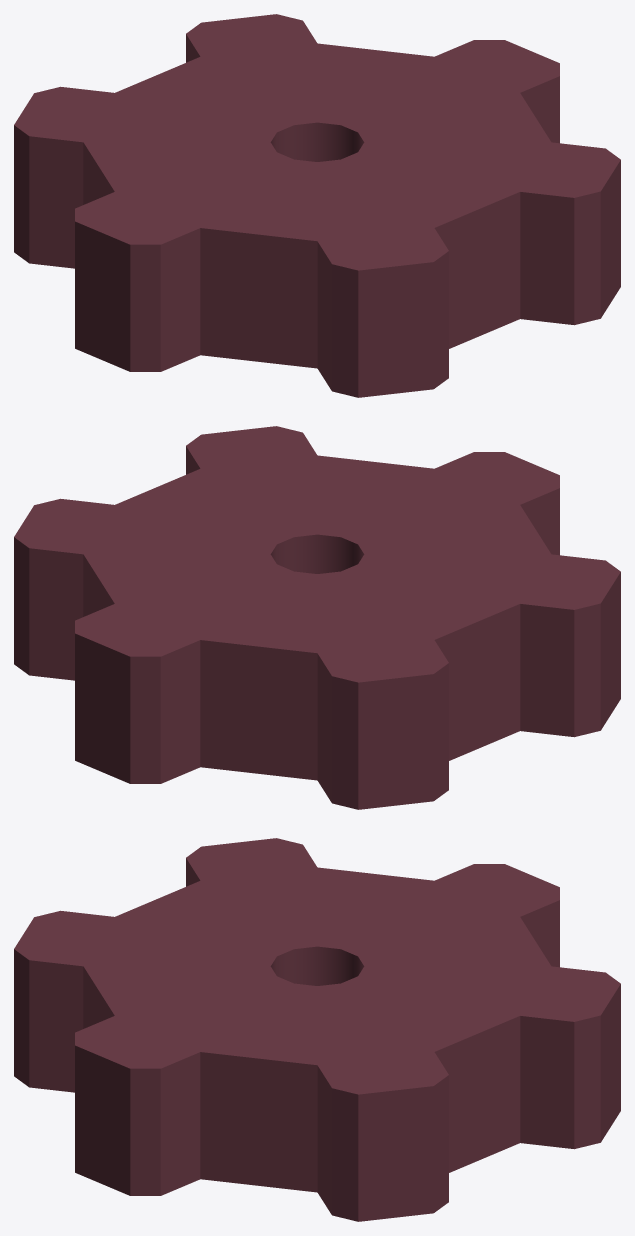
Rendered from Cog2.fbx.
The picture shows the model from 3 angles, top to bottom: view 1: azimuth 30°, elevation 25°; view 2: azimuth 150°, elevation 25°; view 3: azimuth 270°, elevation 25°; orthographic projection.
Parts seen in each view (by area): view 1: Cog2; view 2: Cog2; view 3: Cog2.
Part boxes in pixels (x1,y1,x2,y2): Cog2: (14, 14, 620, 397); Cog2: (14, 426, 620, 809); Cog2: (14, 838, 620, 1221).
Size of the model in its own units: 57.85 by 13.38 by 57.85.
Materials: 1 (1 with a texture image).
